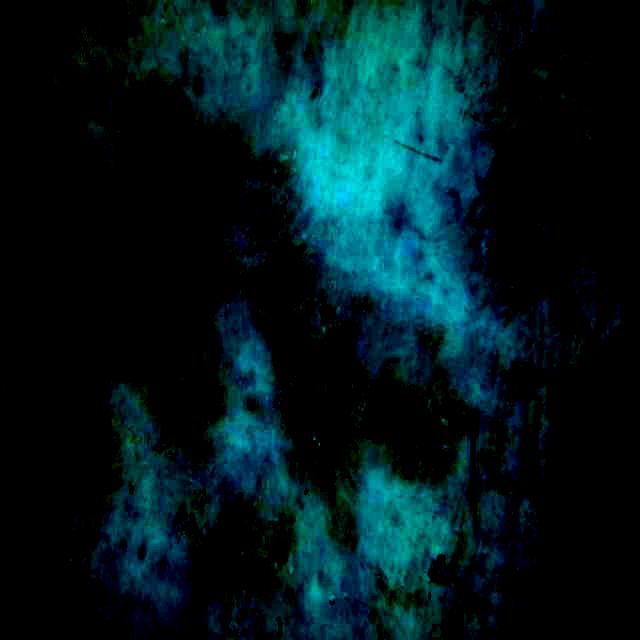AKIEC: (48, 90, 264, 365), (464, 121, 638, 315)
